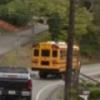buses: (32, 42, 68, 79), (71, 44, 81, 73)
